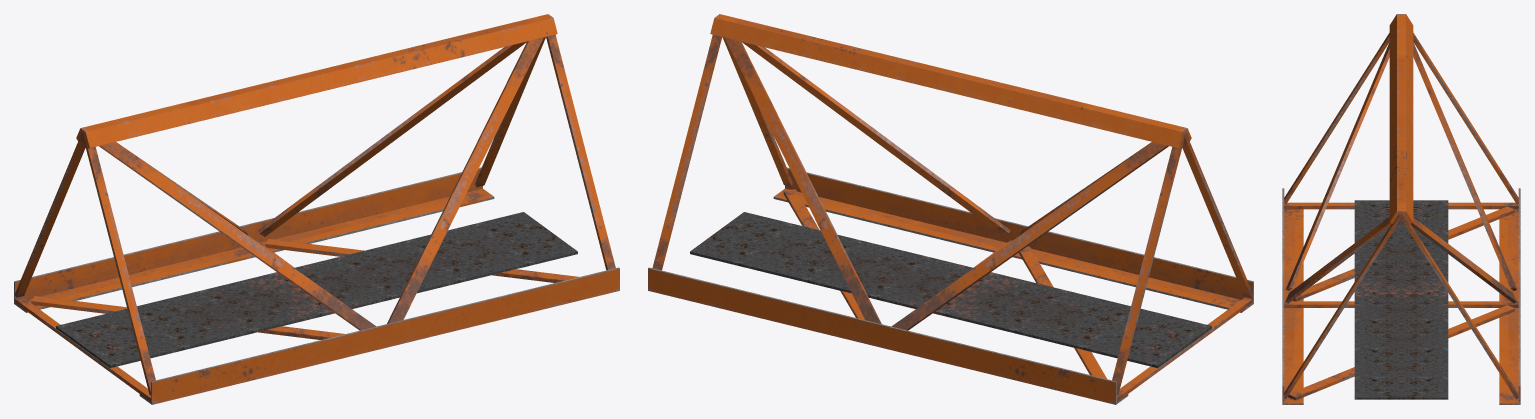
The model's file is CraneFrontArmSection_1.fbx.
The picture shows the model from 3 angles, left to right: view 1: azimuth 30°, elevation 25°; view 2: azimuth 150°, elevation 25°; view 3: azimuth 270°, elevation 25°; orthographic projection. The views are drawn at different scales.
Visible parts, largest first — view 1: Crane_Front_Arm_Section_1_LOD0; view 2: Crane_Front_Arm_Section_1_LOD0; view 3: Crane_Front_Arm_Section_1_LOD0.
Boxes of the visible parts, x1,y1,x2,y2 form: Crane_Front_Arm_Section_1_LOD0: (14,14,619,404); Crane_Front_Arm_Section_1_LOD0: (648,14,1253,404); Crane_Front_Arm_Section_1_LOD0: (1282,14,1520,404).
Size of what is drawn, in the model's own units: 4 by 1.83 by 2.04.
